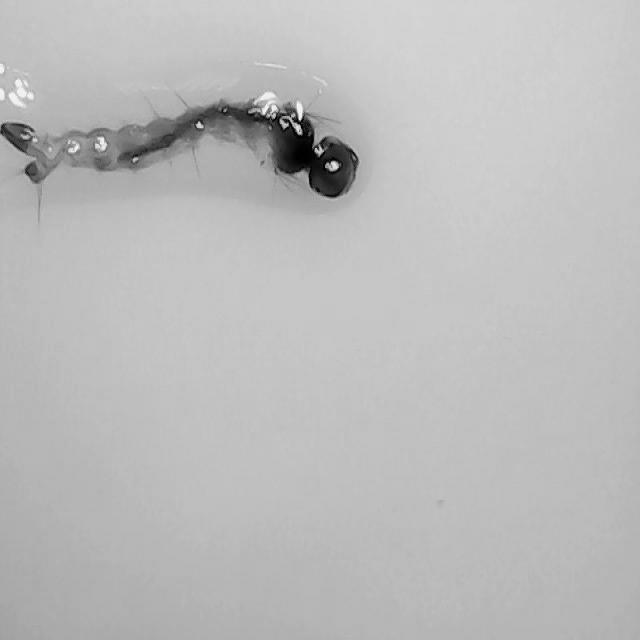larvas: (5, 97, 357, 188)
